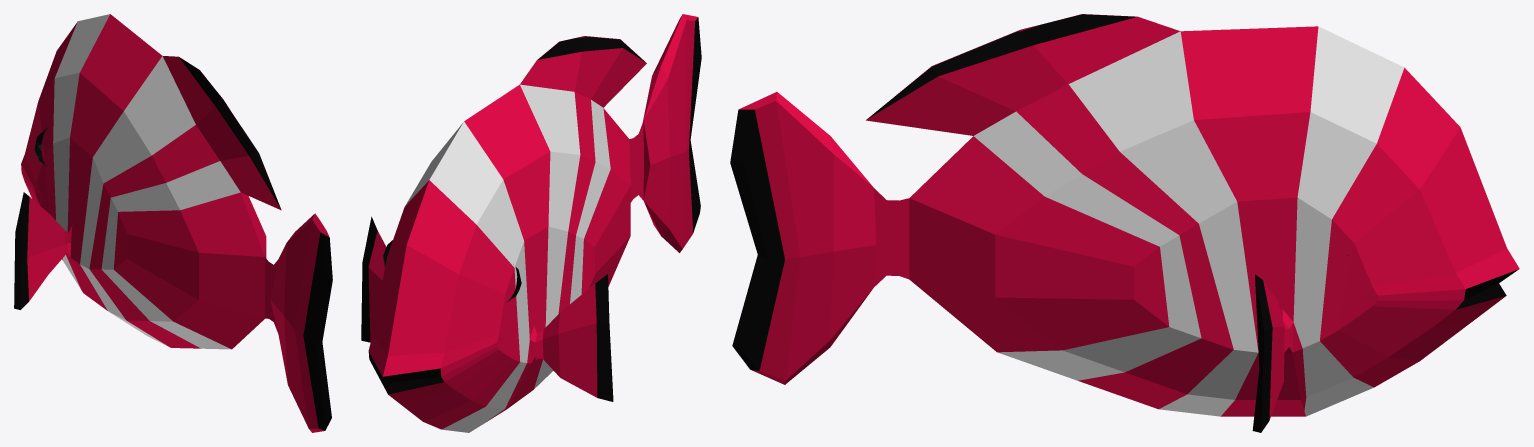
The model's file is fish5.fbx.
3 views of the same model, side by side, from view 1: azimuth 30°, elevation 25°; view 2: azimuth 150°, elevation 25°; view 3: azimuth 270°, elevation 25° (orthographic). The views are drawn at different scales.
Parts seen in each view (by area): view 1: Plane; view 2: Plane; view 3: Plane.
Part boxes in pixels (box(x1,y1,x2,y2)): Plane: box(14, 14, 332, 432); Plane: box(361, 14, 701, 432); Plane: box(730, 14, 1519, 432).
Size of the model in its own units: 160 by 197 by 350.
